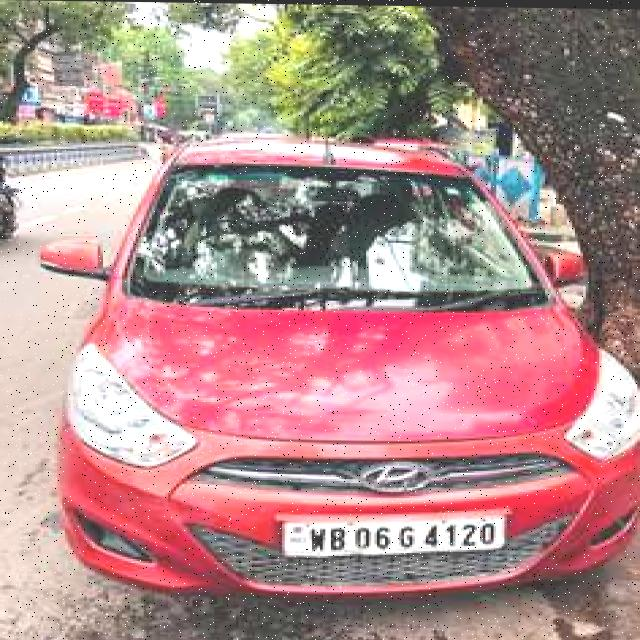plate: (282, 508, 508, 559)
